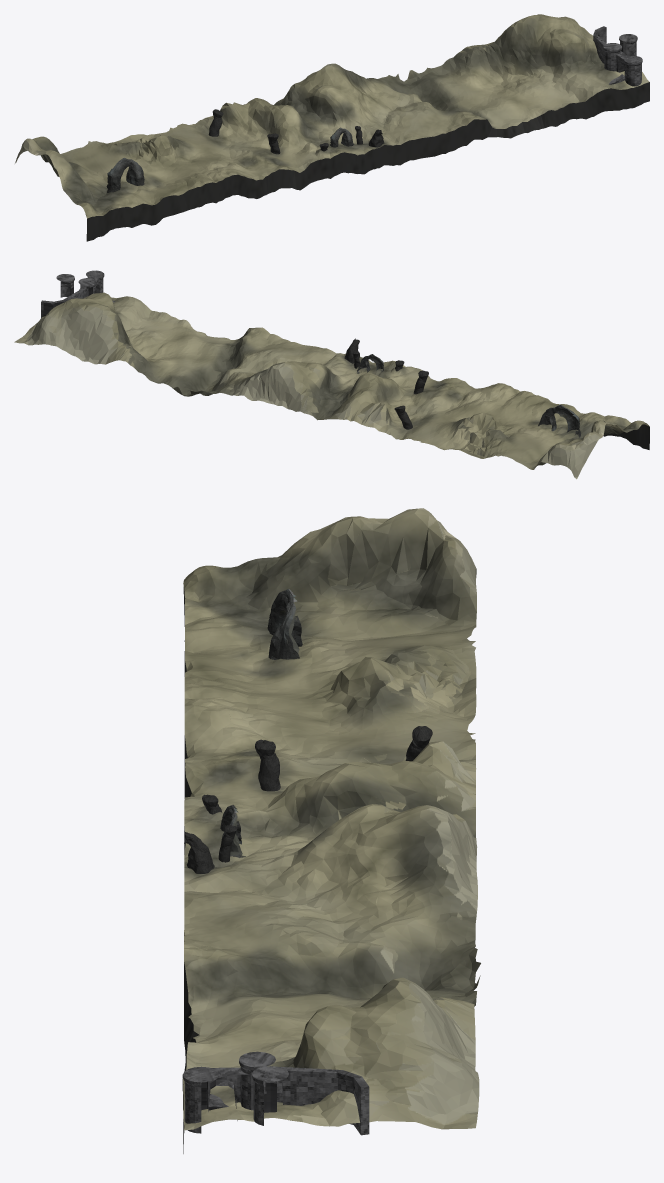
Rendered from level0.dae.
The picture shows the model from 3 angles, top to bottom: view 1: azimuth 30°, elevation 25°; view 2: azimuth 150°, elevation 25°; view 3: azimuth 270°, elevation 25°; orthographic projection. The views are drawn at different scales.
Parts seen in each view (by area): view 1: Plane, Cube_001, arch1_002, arch1; view 2: Plane, Cube_001, arch1_002; view 3: Plane, Cube_001, arch1_002, column2_001.
Part boxes in pixels (bbox=[...]): Plane: bbox=[15, 14, 649, 241]; Cube_001: bbox=[593, 26, 642, 86]; arch1_002: bbox=[106, 158, 144, 192]; arch1: bbox=[330, 127, 354, 147]; Plane: bbox=[14, 292, 649, 479]; Cube_001: bbox=[41, 270, 115, 317]; arch1_002: bbox=[538, 404, 580, 437]; Plane: bbox=[182, 508, 480, 1153]; Cube_001: bbox=[182, 1051, 369, 1135]; arch1_002: bbox=[267, 589, 302, 659]; column2_001: bbox=[255, 739, 280, 791].
Size of the model in its own units: 19.12 by 4.3 by 2.04.
4 materials, 4 textured.
